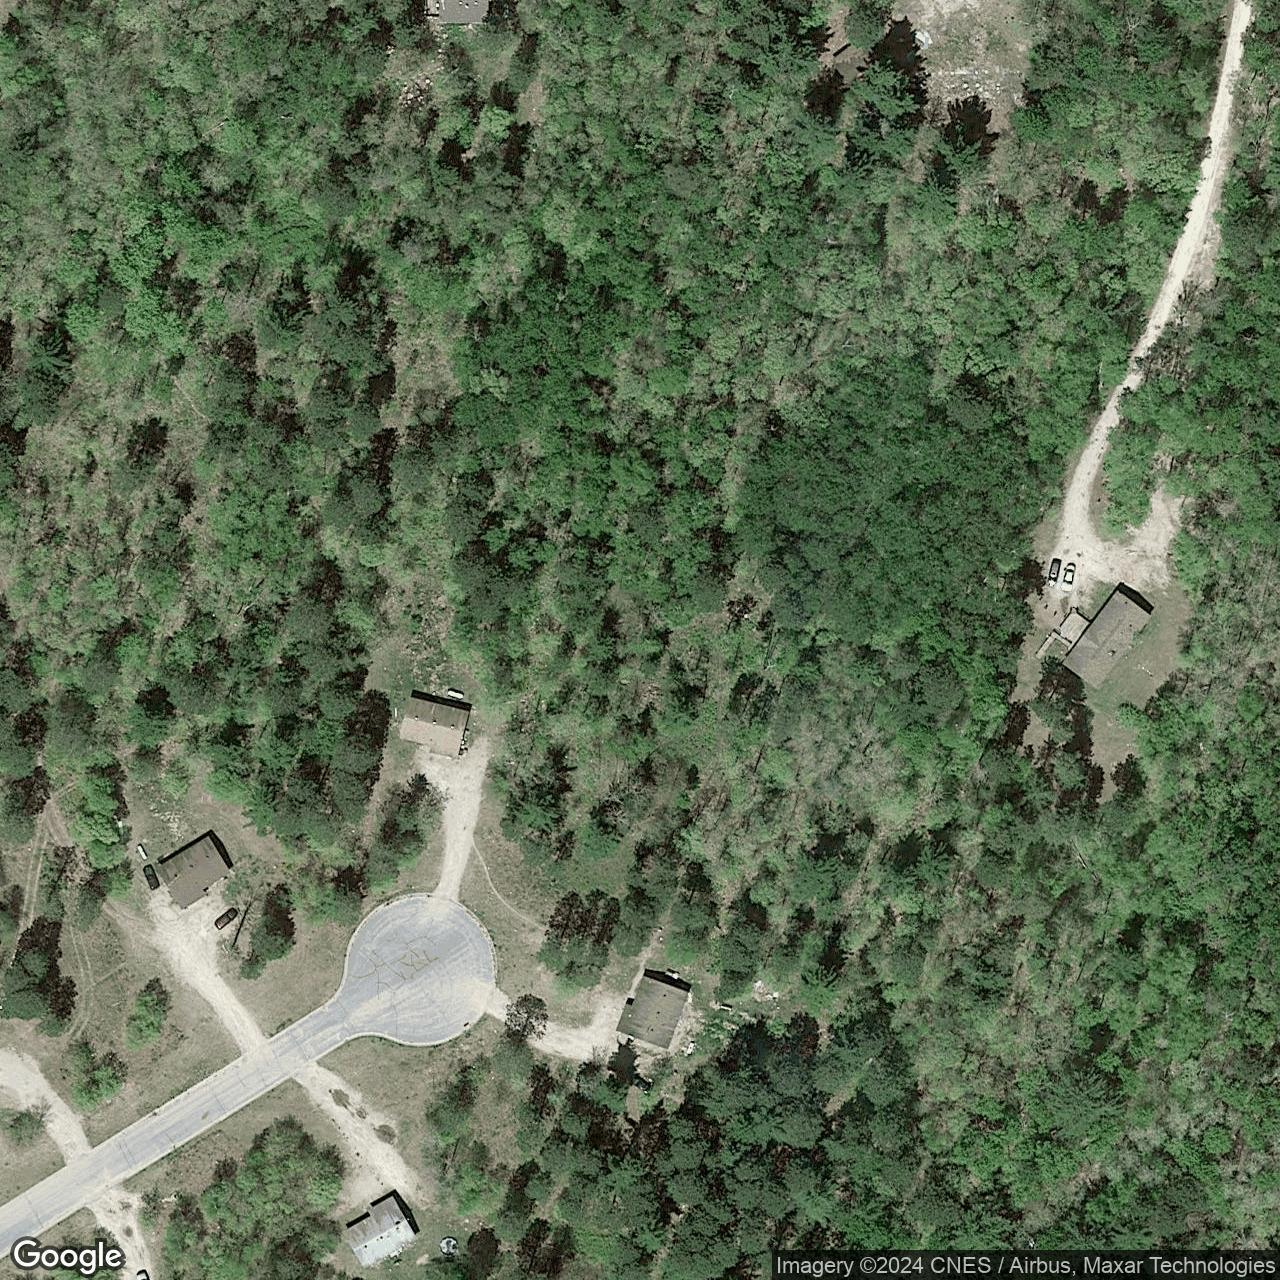House: (1061, 590, 1152, 690), (156, 833, 232, 912), (343, 1194, 417, 1271), (615, 975, 688, 1050), (397, 696, 471, 761), (437, 1, 491, 23)
Propane: (135, 843, 149, 862), (447, 686, 465, 700), (683, 1039, 697, 1057)
